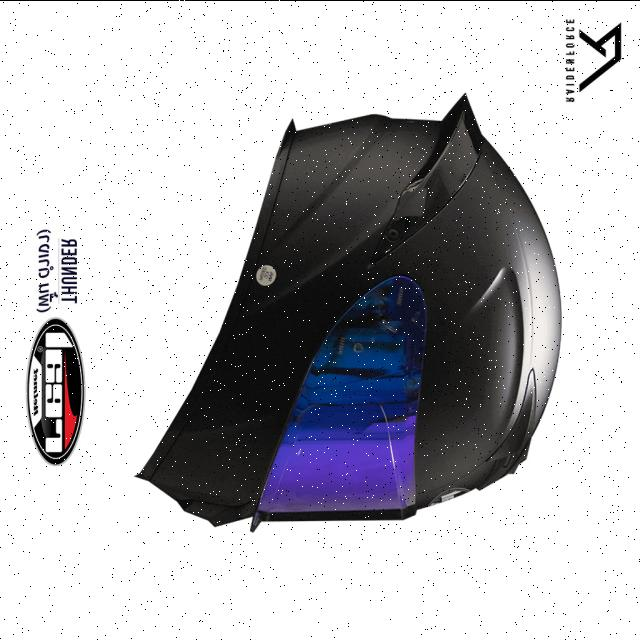Helmet: (141, 96, 560, 525)
